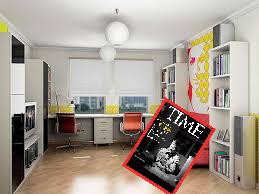times: (120, 95, 216, 193)
